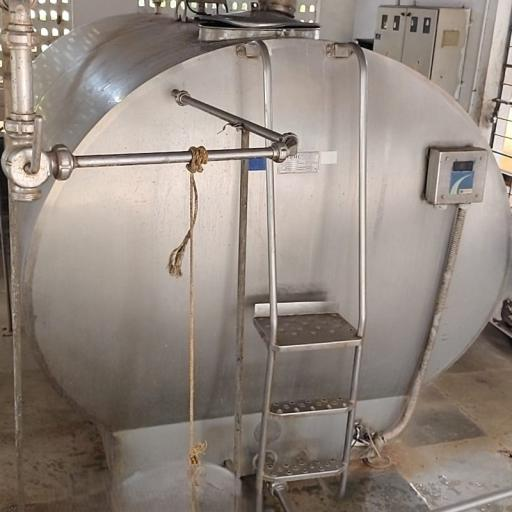silo: (17, 8, 509, 475)
